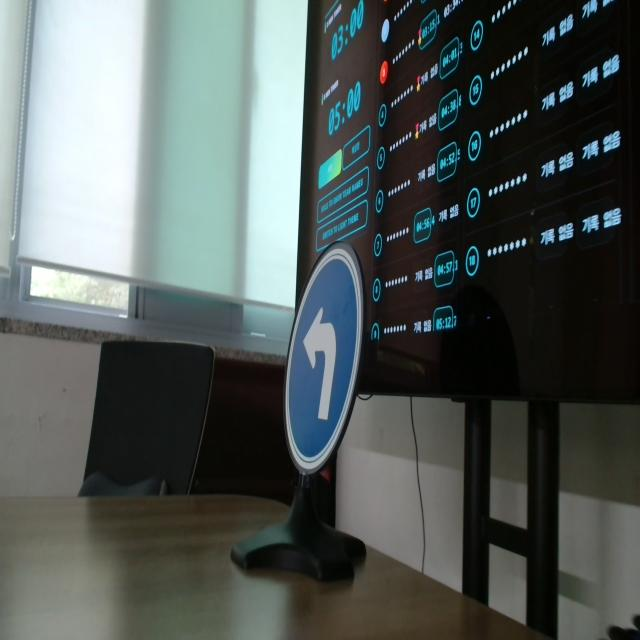left_direction: (273, 246, 377, 486)
